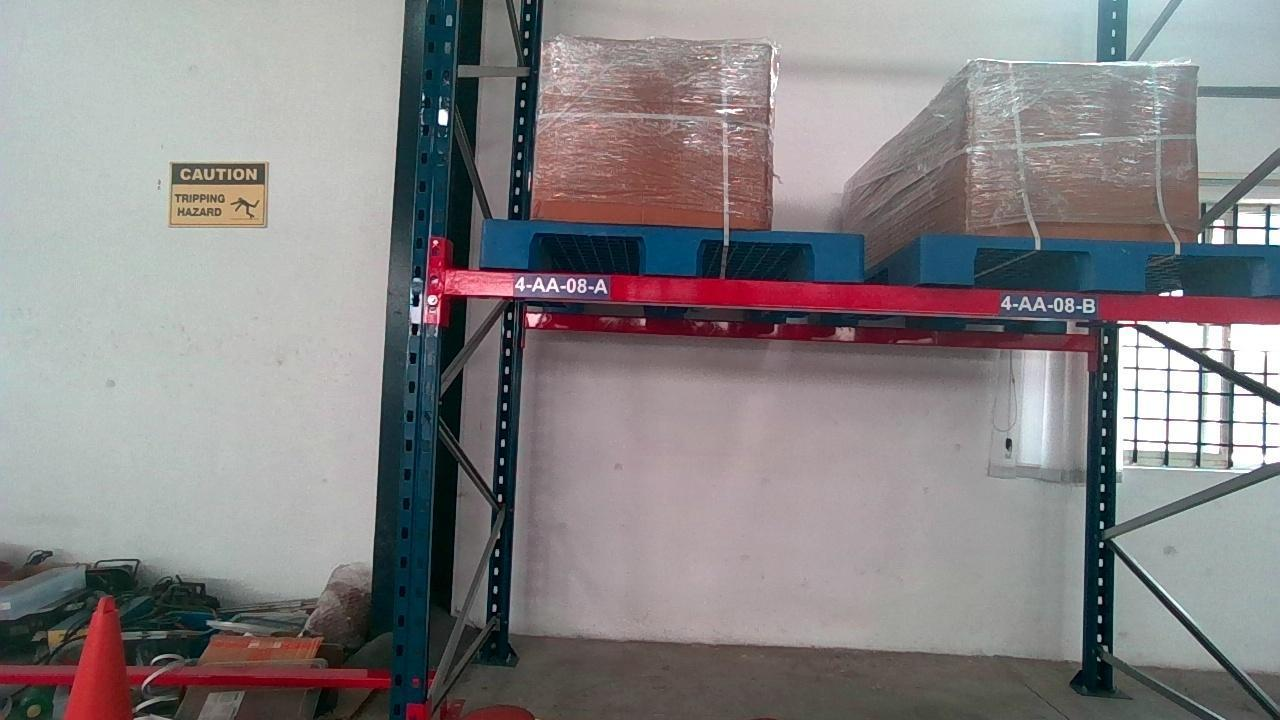h_rack: (447, 270, 1280, 328)
small_pallet: (480, 223, 867, 275), (925, 237, 1278, 290)
